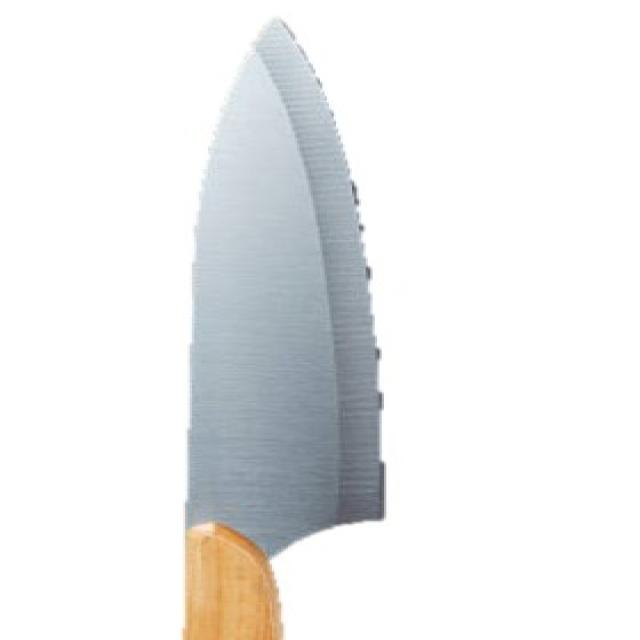knife: (157, 10, 408, 633)
